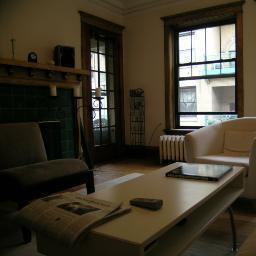Otro Obstaculo: (160, 133, 188, 164)
Puerta: (82, 20, 122, 162)
Ventana: (168, 22, 244, 126)
